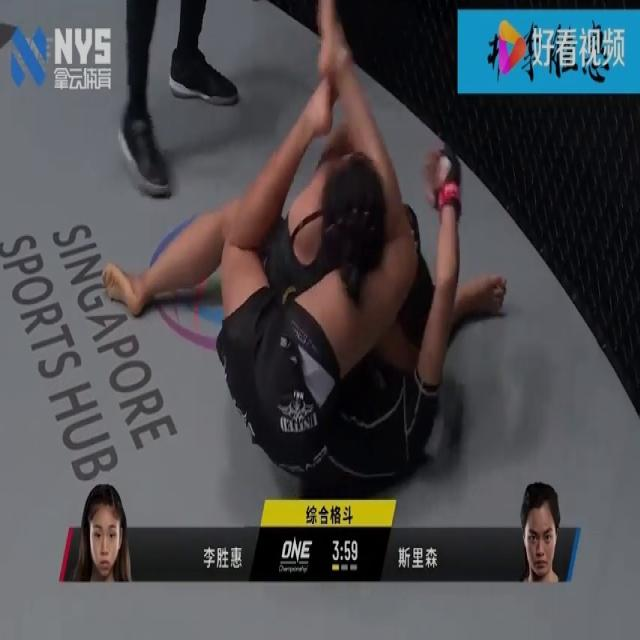fight: (107, 1, 516, 478)
